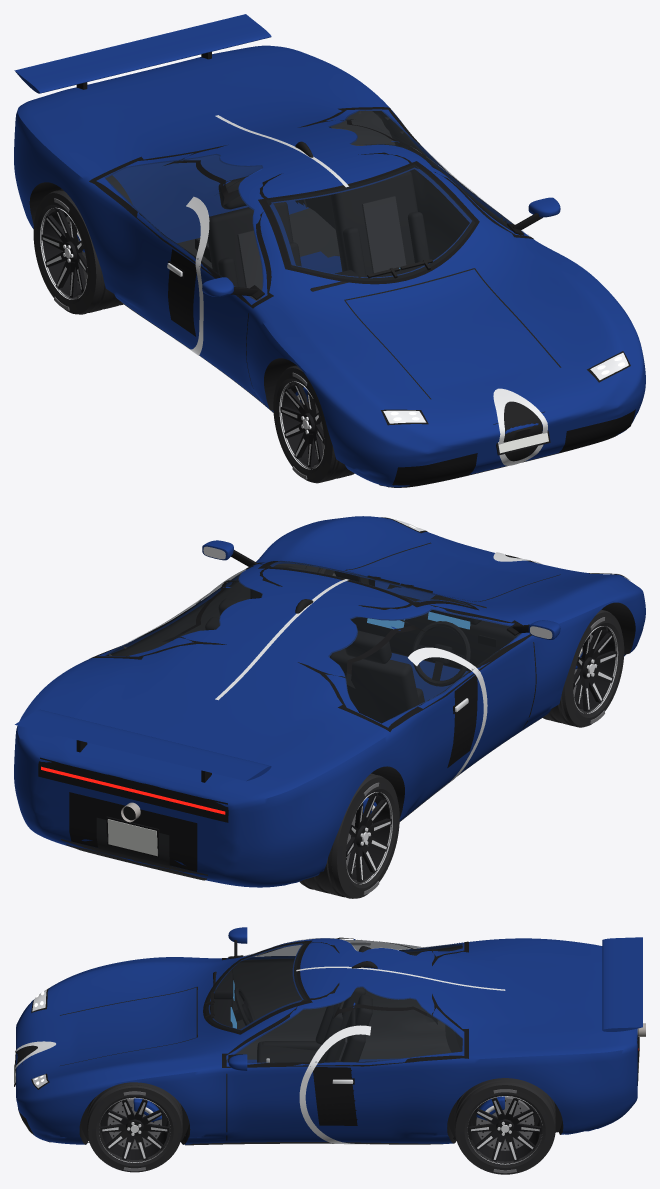
The model's file is tourbillon.glb.
The picture shows the model from 3 angles, top to bottom: view 1: azimuth 30°, elevation 25°; view 2: azimuth 150°, elevation 25°; view 3: azimuth 270°, elevation 25°; orthographic projection. The views are drawn at different scales.
Parts seen in each view (by area): view 1: Body, Wheel_RR, Wheel_FR; view 2: Body, Wheel_RR, Wheel_FR; view 3: Body, Wheel_RL, Wheel_FL.
Boxes of the visible parts, x1,y1,x2,y2 form: Body: (14, 14, 645, 487); Wheel_RR: (33, 189, 123, 314); Wheel_FR: (273, 365, 354, 483); Body: (14, 516, 645, 887); Wheel_RR: (299, 773, 399, 898); Wheel_FR: (543, 609, 624, 727); Body: (14, 927, 645, 1145); Wheel_RL: (454, 1078, 555, 1174); Wheel_FL: (87, 1082, 182, 1172).
Bounding box in the file's own units: 2.38 × 1.26 × 4.62.
